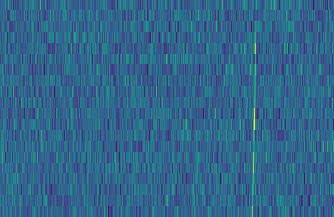signal: (249, 0, 262, 217)
